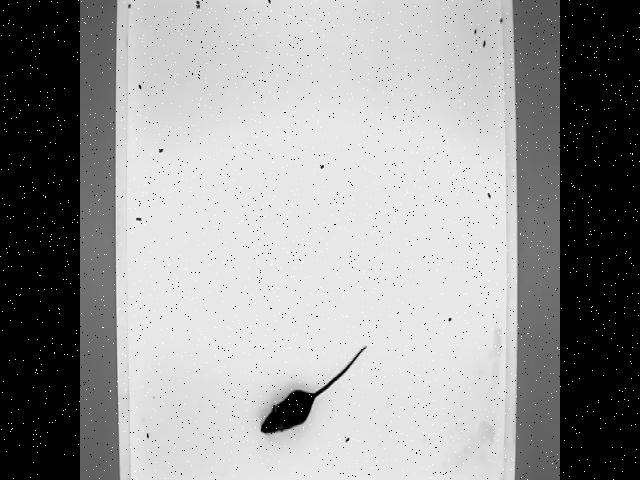Tikus: (252, 339, 370, 441)
